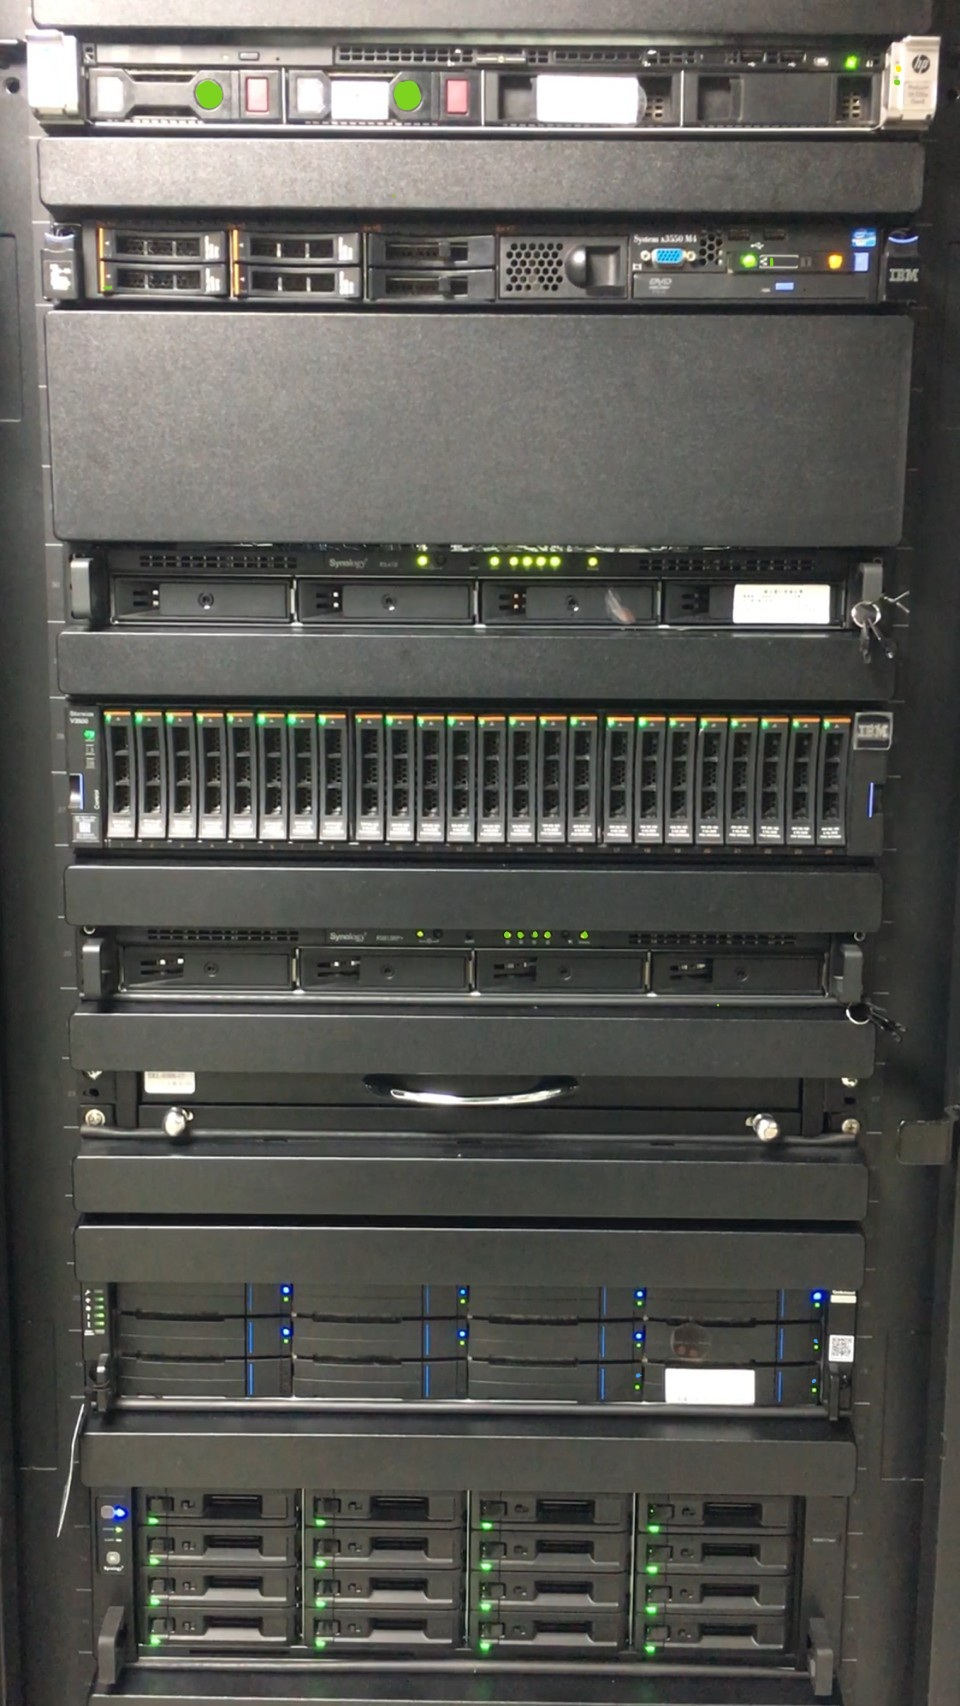HDD_Notused: (368, 228, 497, 268), (368, 267, 497, 305)
HDD_normal: (96, 261, 224, 296)
HDD_shut down: (230, 220, 362, 267), (231, 258, 360, 296), (98, 228, 225, 264)
